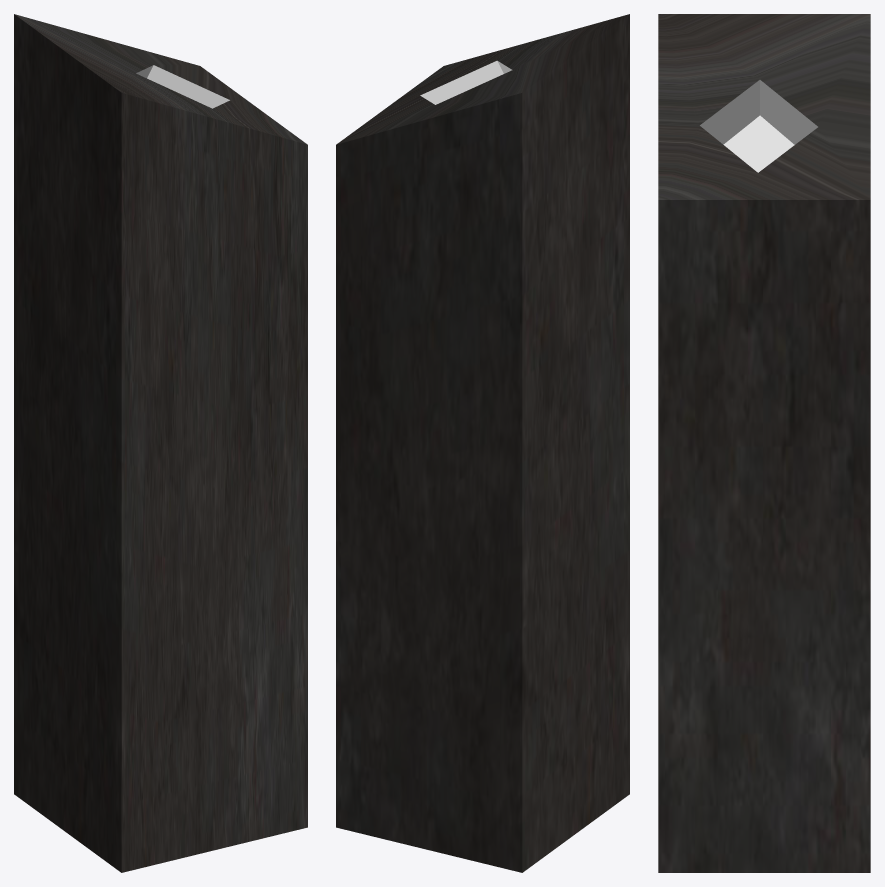
File: cubeConsole.gltf
The picture shows the model from 3 angles, left to right: view 1: azimuth 30°, elevation 25°; view 2: azimuth 150°, elevation 25°; view 3: azimuth 270°, elevation 25°; orthographic projection.
Visible parts, largest first — view 1: Cube.002; view 2: Cube.002; view 3: Cube.002.
Boxes of the visible parts, x1,y1,x2,y2 form: Cube.002: (14, 14, 307, 872); Cube.002: (336, 14, 629, 872); Cube.002: (658, 14, 870, 872).
Bounding box in the file's own units: 2 × 8 × 2.
Materials: 2 (1 with a texture image).
